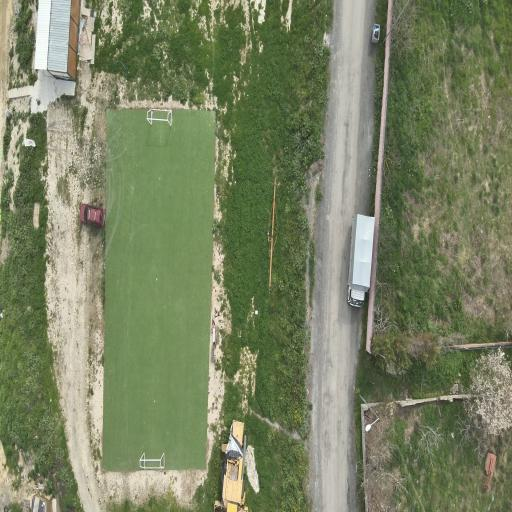car: (348, 215, 374, 306), (80, 204, 105, 227)
harvester: (214, 421, 248, 511)
